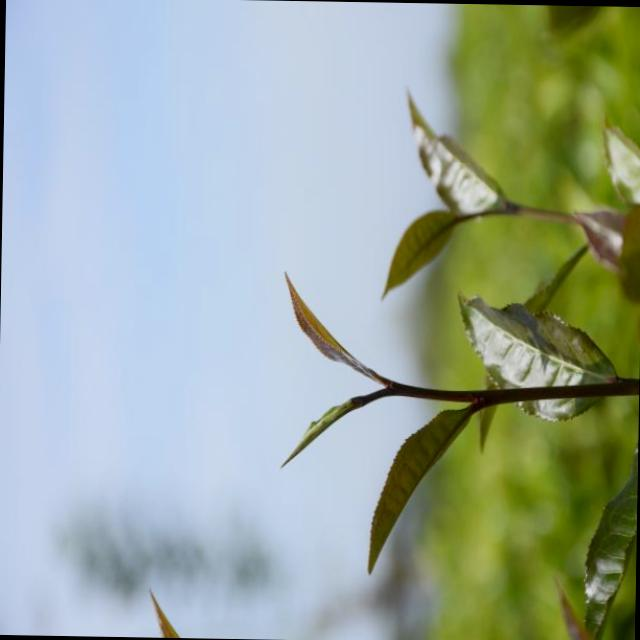Stem: (392, 382, 405, 395)
